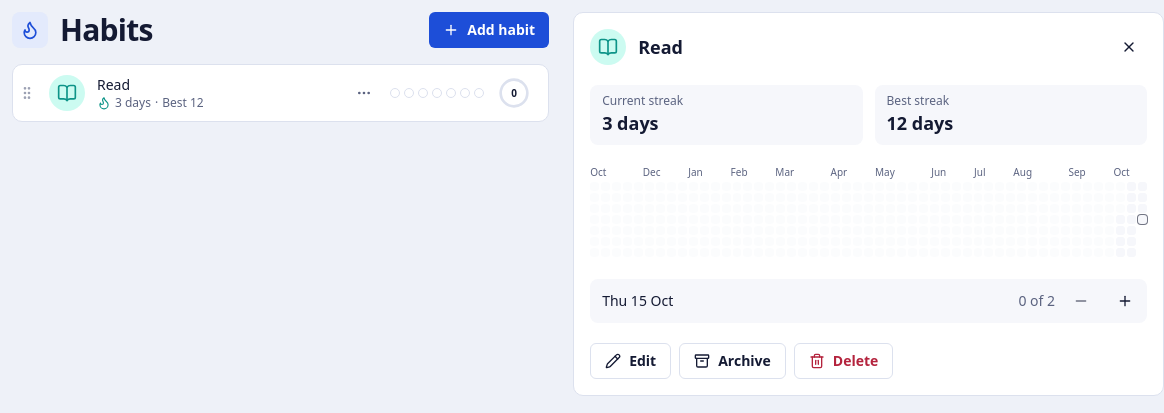
A Habit's details › archive the Habit and offer to bring it back
Step 1. Click the button "Archive" → (732, 361), box [679, 343, 786, 379]
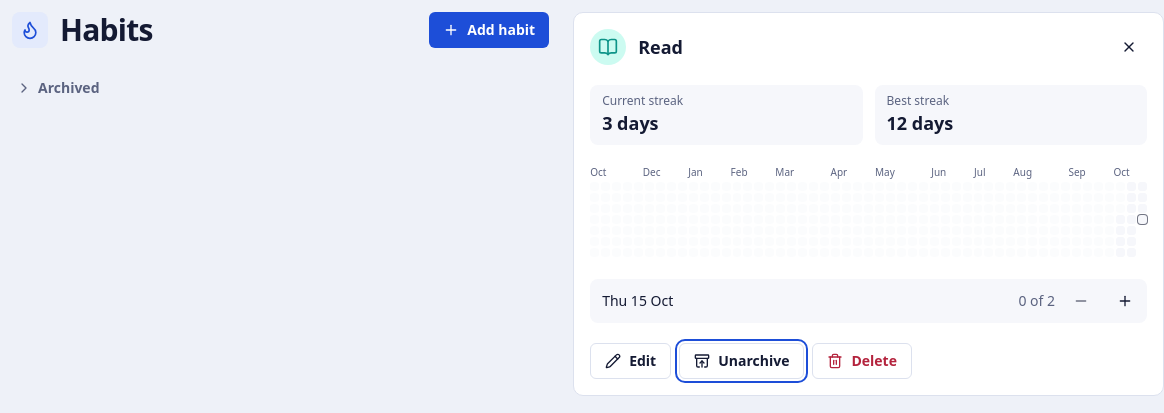
Check: the button "Unarchive" is shown, box [679, 343, 804, 379]
